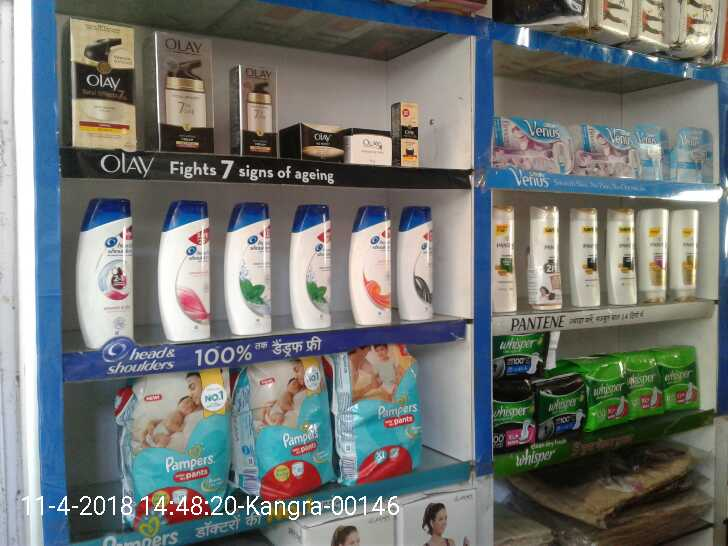venus: (497, 119, 571, 167), (580, 121, 638, 176), (677, 125, 713, 181), (641, 126, 668, 182)
